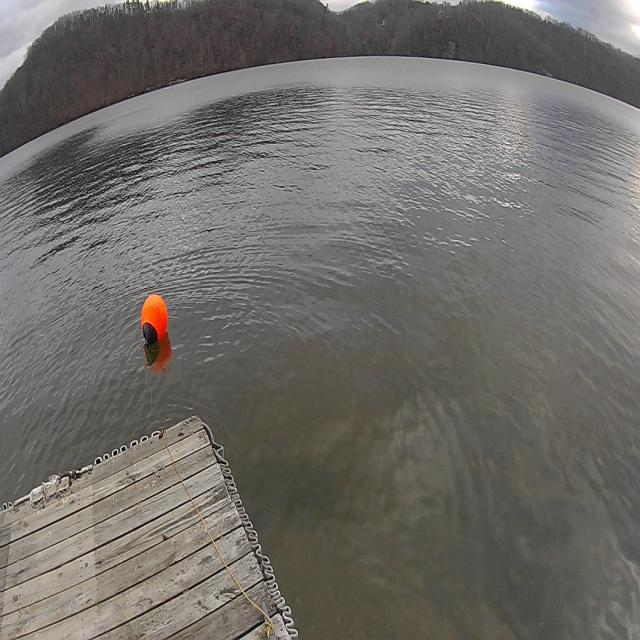Buoy: (140, 290, 168, 348)
